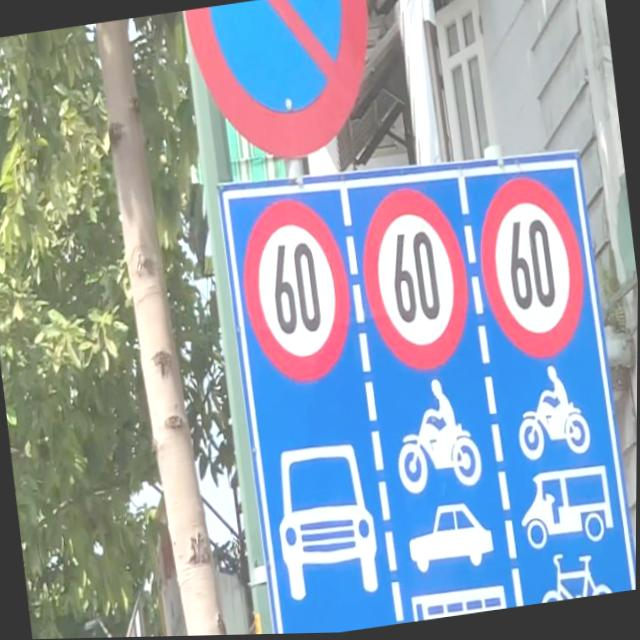Cam do xe: (178, 0, 386, 179)
Toc do toi da cho phep: (232, 190, 361, 393), (351, 180, 479, 381), (468, 170, 594, 371)
